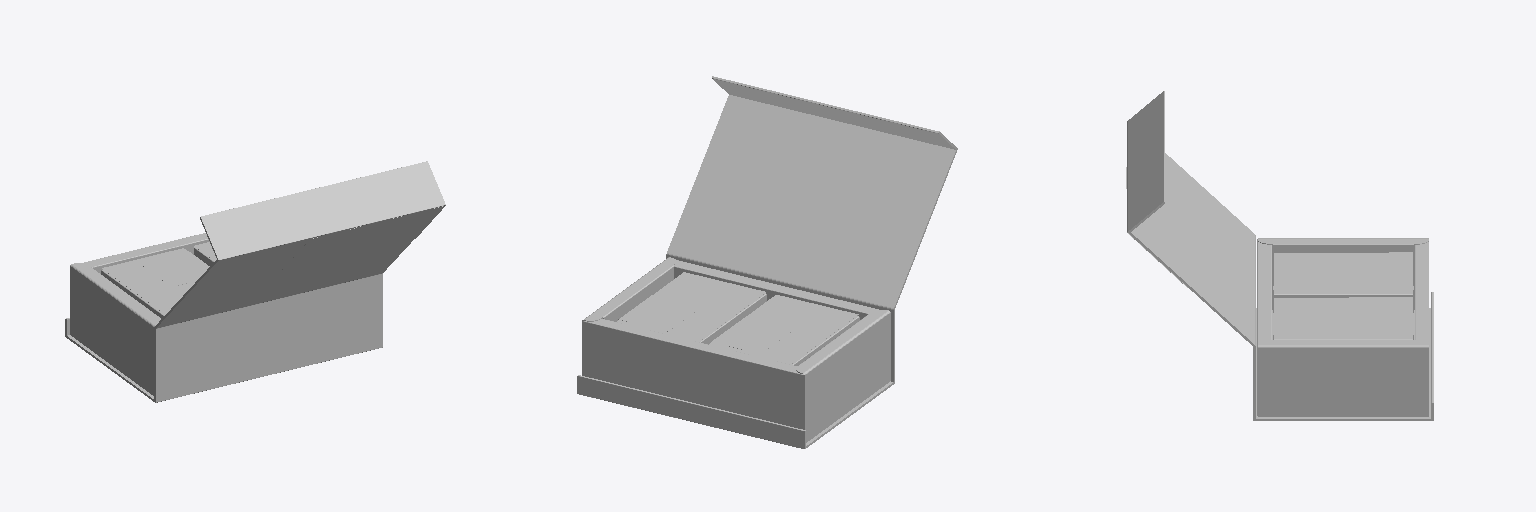
File: chanfeng1.obj
3 renders of one model, left to right at view 1: azimuth 30°, elevation 25°; view 2: azimuth 150°, elevation 25°; view 3: azimuth 270°, elevation 25°, orthographic.
Visible parts, largest first — view 1: Obj_000010, Obj_000001, Box007, Box006, Box002, Obj_000003, Box004; view 2: Obj_000009, Obj_000003, Obj_000010, Obj_000001, Box006, Box003, Obj_000002, Box001, Box002, Box005, Obj_000008; view 3: Obj_000002, Obj_000009, Obj_000010, Box006, Obj_000003, Box005, Obj_000001, Box002, Box001, Box003, Obj_000006.
Part boxes in pixels (x1,y1,x2,y2): Obj_000010: (65, 161, 445, 402); Obj_000001: (70, 263, 160, 395); Box007: (327, 206, 444, 260); Box006: (102, 248, 195, 314); Box002: (139, 251, 209, 286); Obj_000003: (82, 233, 209, 273); Box004: (281, 228, 355, 271); Obj_000009: (671, 81, 951, 310); Obj_000003: (583, 260, 878, 429); Obj_000010: (577, 76, 957, 448); Obj_000001: (796, 310, 890, 442); Box006: (709, 295, 858, 364); Box003: (618, 272, 765, 341); Obj_000002: (582, 257, 675, 375); Box001: (618, 295, 699, 331); Box002: (712, 318, 792, 353); Box005: (617, 272, 763, 341); Obj_000008: (700, 293, 766, 344); Obj_000002: (1258, 340, 1428, 416); Obj_000009: (1132, 155, 1255, 342); Obj_000010: (1127, 91, 1433, 420); Box006: (1274, 252, 1412, 292); Obj_000003: (1257, 239, 1428, 415); Box005: (1274, 297, 1412, 337); Obj_000001: (1258, 238, 1428, 285); Box002: (1339, 268, 1403, 292); Box001: (1339, 314, 1403, 337); Box003: (1274, 297, 1412, 337); Obj_000006: (1274, 293, 1412, 297).
Bounding box in the file's own units: 320 × 295 × 375.